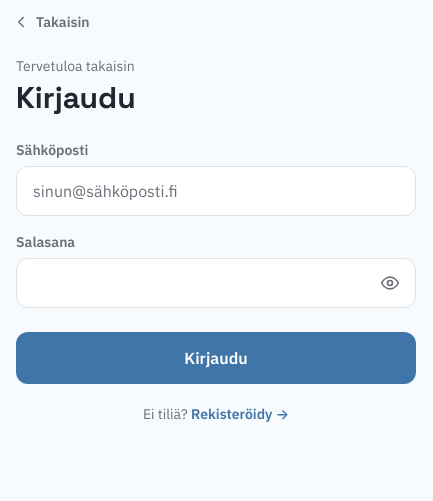
Test: Login (integration) › shows the server error message on bad credentials
Type "jeremia@example.fi" into the field labelled "Sähköposti" at (216,191), box [16,166,416,216]
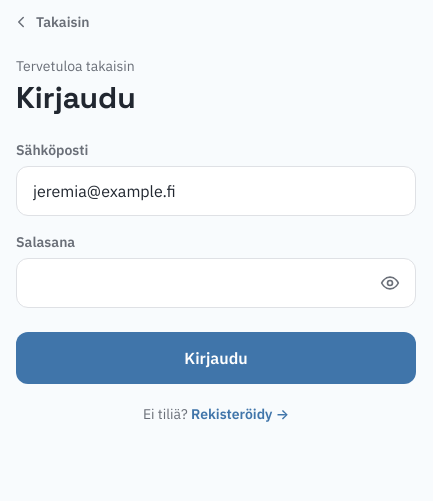
Type "wrongpass" into the password field labelled "Salasana" at (216,283), box [16,258,416,308]
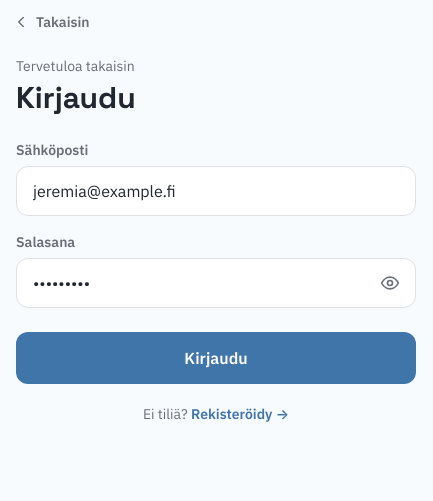
Click the button "Kirjaudu" at (216,358), box [16,332,416,384]
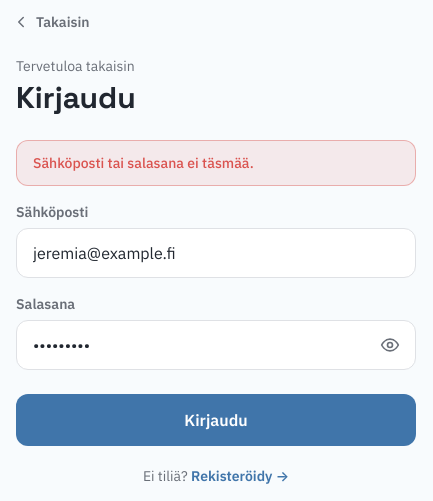
Result: the text "Sähköposti tai salasana ei täsmää." is shown at [16,140,416,186]
